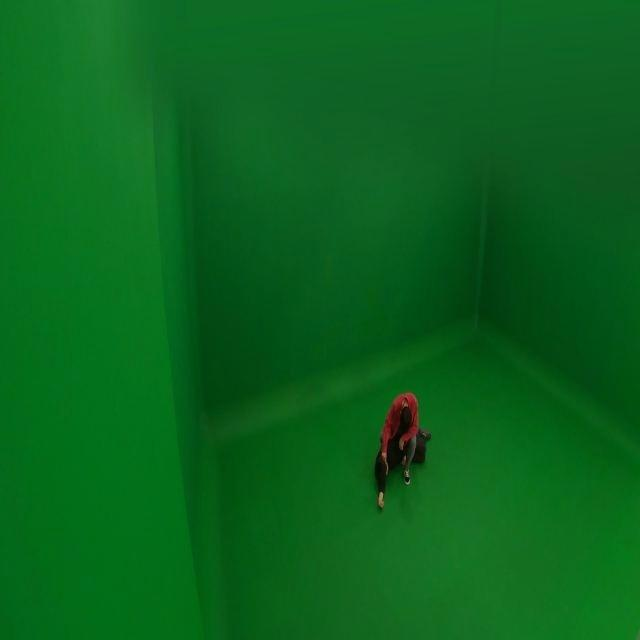fight: (372, 385, 433, 510)
